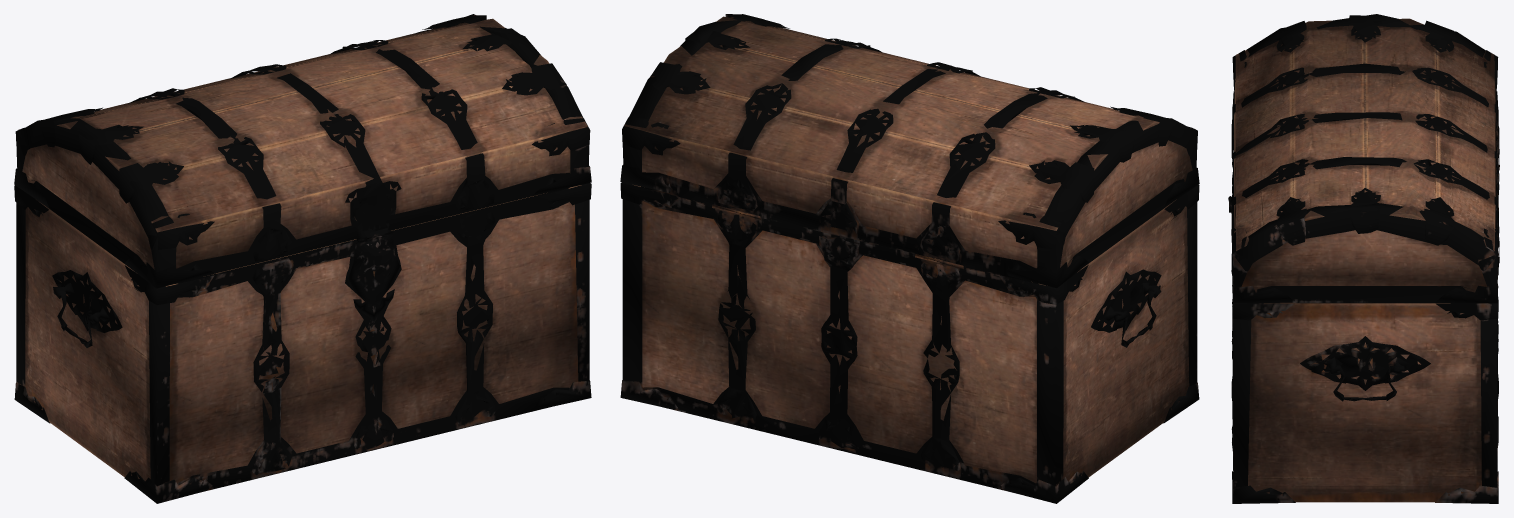
Rendered from TravelTrunk.fbx.
3 renders of one model, left to right at view 1: azimuth 30°, elevation 25°; view 2: azimuth 150°, elevation 25°; view 3: azimuth 270°, elevation 25°, orthographic. The views are drawn at different scales.
Visible parts, largest first — view 1: TravelTrunk; view 2: TravelTrunk; view 3: TravelTrunk.
Boxes of the visible parts, <box> form: TravelTrunk: <box>14,14,591,503</box>; TravelTrunk: <box>620,14,1199,503</box>; TravelTrunk: <box>1228,14,1499,503</box>.
Size of the model in its own units: 0.9598 by 0.6183 by 0.5201.
Materials: 1 (1 with a texture image).
